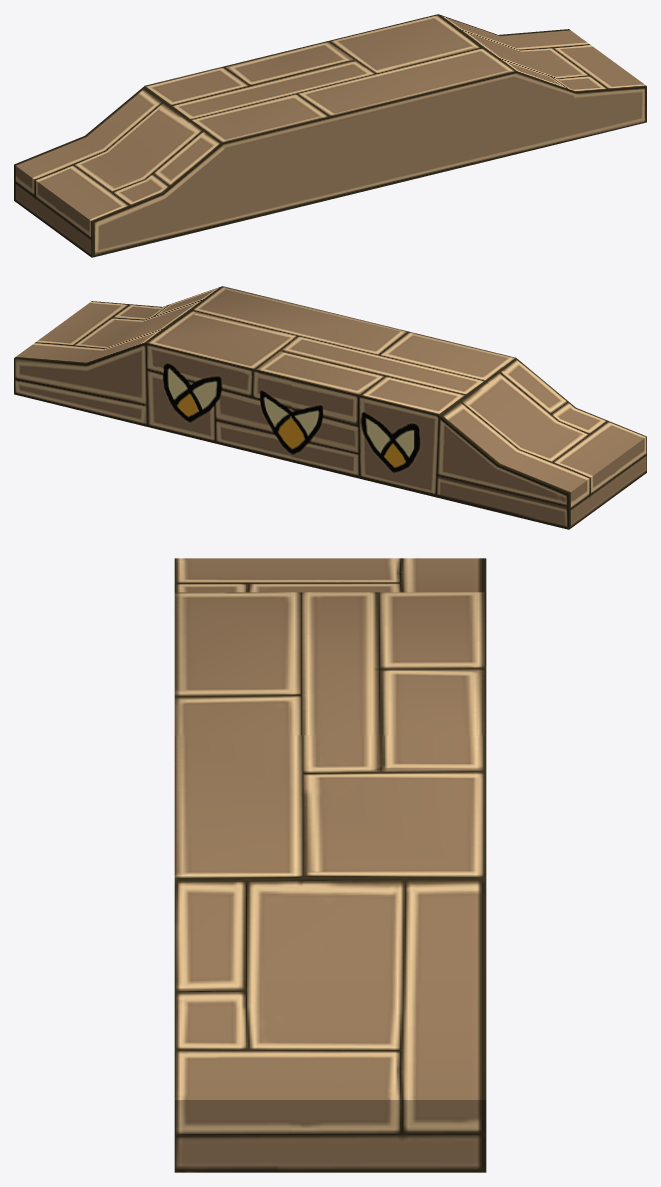
File: egypt_stepslope.gltf
3 renders of one model, top to bottom at view 1: azimuth 30°, elevation 25°; view 2: azimuth 150°, elevation 25°; view 3: azimuth 270°, elevation 25°, orthographic. The views are drawn at different scales.
Parts seen in each view (by area): view 1: egypt_stepslope_glb; view 2: egypt_stepslope_glb; view 3: egypt_stepslope_glb.
Boxes of the visible parts, x1,y1,x2,y2 form: egypt_stepslope_glb: (14,14,646,257); egypt_stepslope_glb: (14,286,646,529); egypt_stepslope_glb: (174,558,486,1172).
Size of what is drawn, in the model's own units: 4 by 0.5727 by 0.9725.
Materials: 1 (1 with a texture image).
